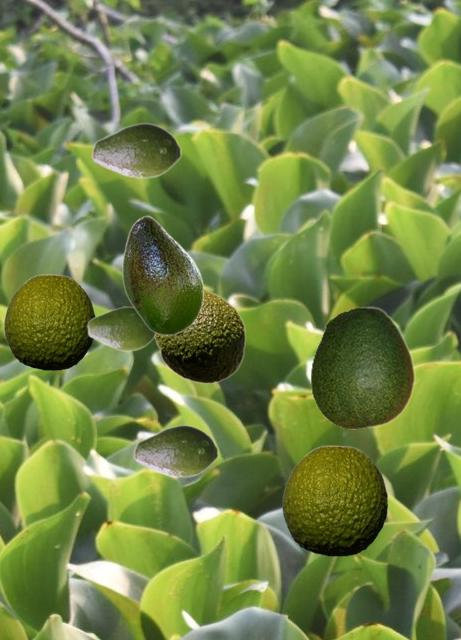avocado: (310, 306, 414, 428), (282, 445, 386, 555), (122, 215, 203, 334), (154, 287, 245, 383), (4, 274, 94, 369), (91, 122, 181, 178), (133, 424, 218, 477), (86, 305, 156, 351)
